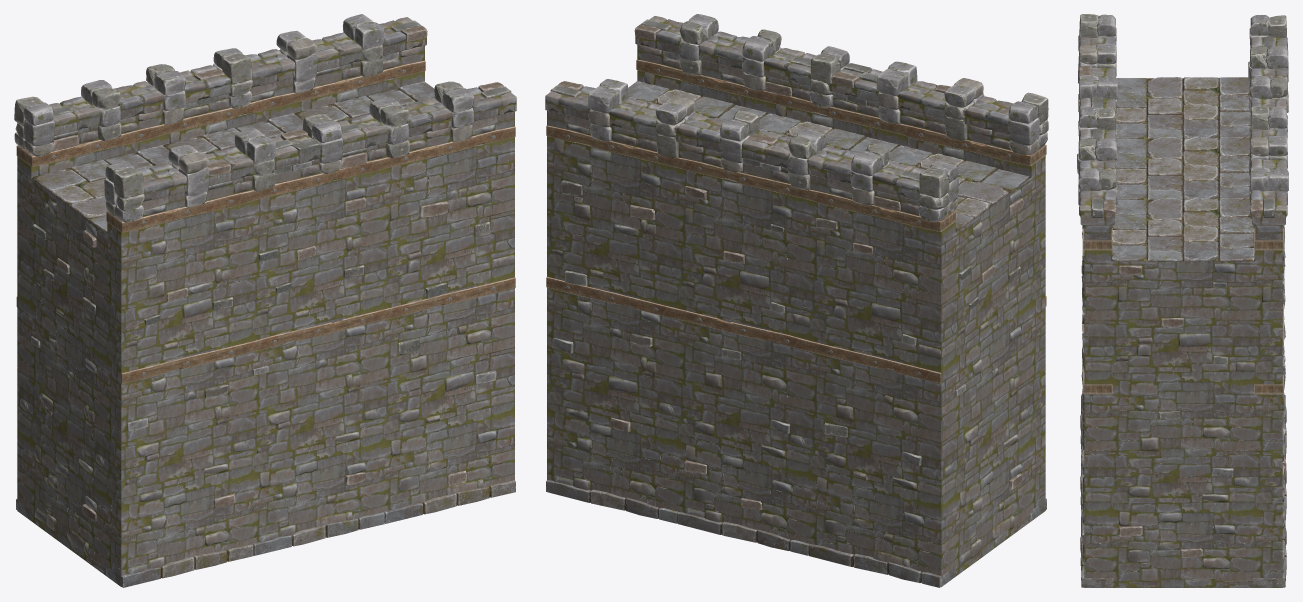
The picture shows the model from 3 angles, left to right: view 1: azimuth 30°, elevation 25°; view 2: azimuth 150°, elevation 25°; view 3: azimuth 270°, elevation 25°; orthographic projection. The views are drawn at different scales.
Visible parts, largest first — view 1: SM_Castle_Wall_4x12_01_v6_LOD0; view 2: SM_Castle_Wall_4x12_01_v6_LOD0; view 3: SM_Castle_Wall_4x12_01_v6_LOD0.
Part boxes in pixels (left/top/right/bottom): SM_Castle_Wall_4x12_01_v6_LOD0: left=14, top=14, right=516, bottom=587; SM_Castle_Wall_4x12_01_v6_LOD0: left=545, top=14, right=1048, bottom=587; SM_Castle_Wall_4x12_01_v6_LOD0: left=1077, top=14, right=1288, bottom=587.
Bounding box in the file's own units: 12.2 × 12 × 5.88.
6 materials, 6 textured.
